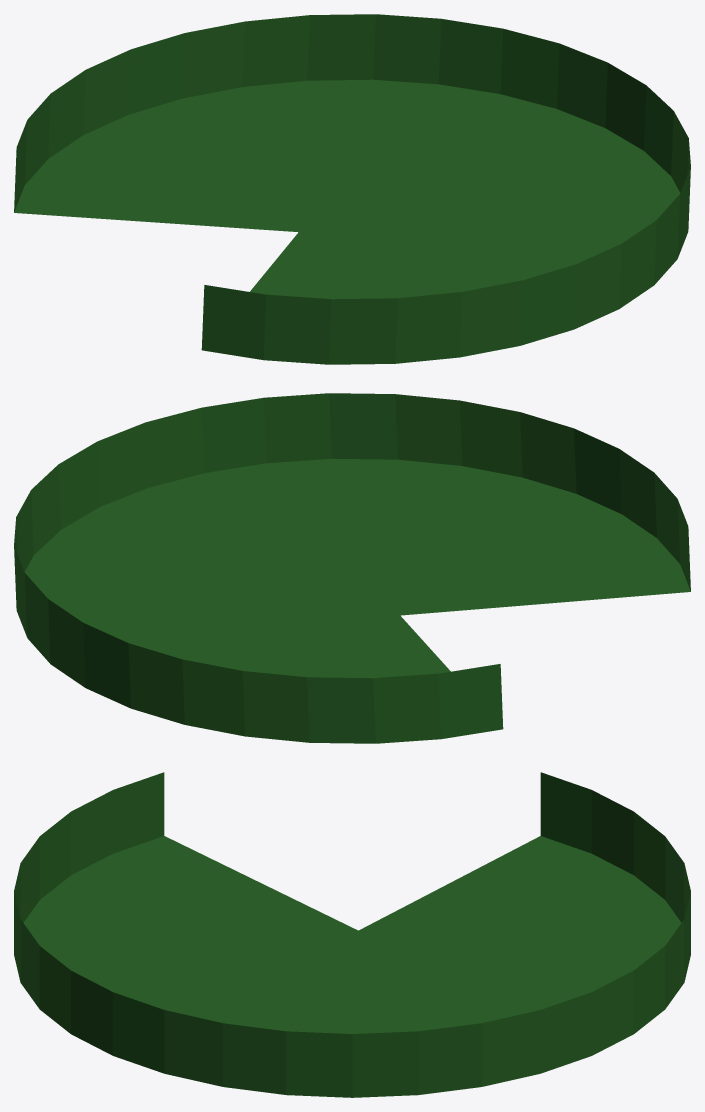
Rendered from Swamp_Lotus.fbx.
3 renders of one model, top to bottom at view 1: azimuth 30°, elevation 25°; view 2: azimuth 150°, elevation 25°; view 3: azimuth 270°, elevation 25°, orthographic.
Visible parts, largest first — view 1: Circle; view 2: Circle; view 3: Circle.
Part boxes in pixels (x1,y1,x2,y2): Circle: (14, 14, 690, 364); Circle: (14, 393, 690, 743); Circle: (14, 772, 690, 1097).
Size of the model in its own units: 36.06 by 4.16 by 39.19.
